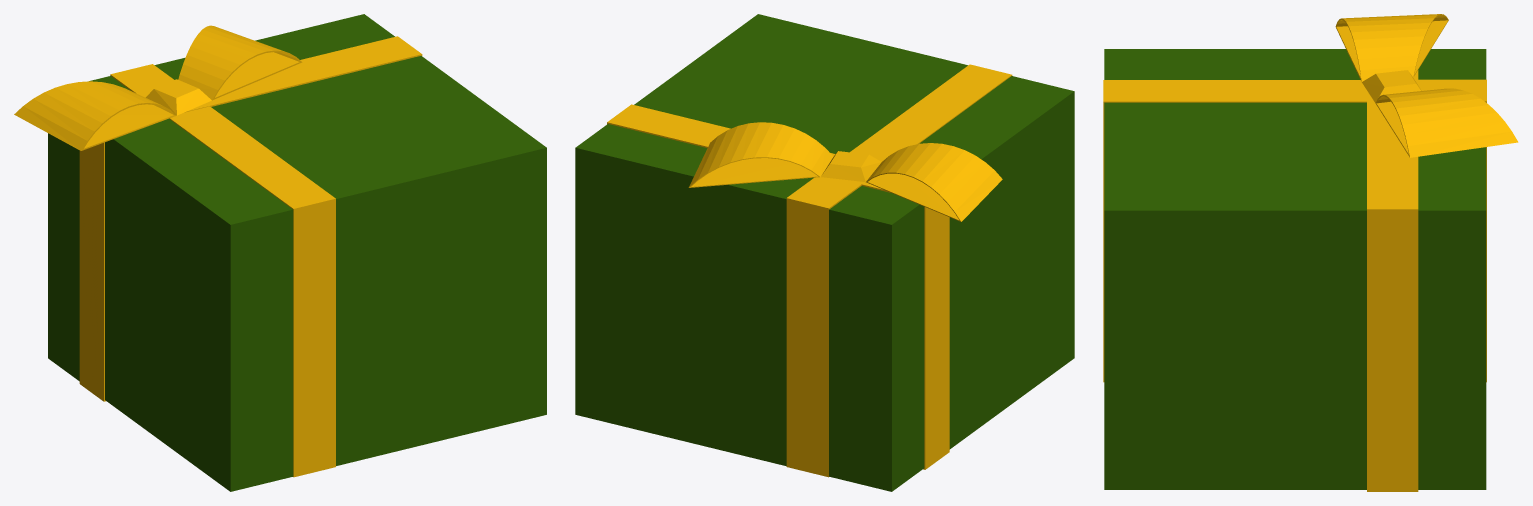
Rendered from Prop_Christmas_Present_Green_05.FBX.
3 views of the same model, side by side, from view 1: azimuth 30°, elevation 25°; view 2: azimuth 150°, elevation 25°; view 3: azimuth 270°, elevation 25° (orthographic). The views are drawn at different scales.
Visible parts, largest first — view 1: Prop_Christmas_Present_Green_05; view 2: Prop_Christmas_Present_Green_05; view 3: Prop_Christmas_Present_Green_05.
Part boxes in pixels (x1,y1,x2,y2): Prop_Christmas_Present_Green_05: (14,14,546,491); Prop_Christmas_Present_Green_05: (575,14,1074,491); Prop_Christmas_Present_Green_05: (1103,14,1518,491).
Bounding box in the file's own units: 387 × 298 × 360.
